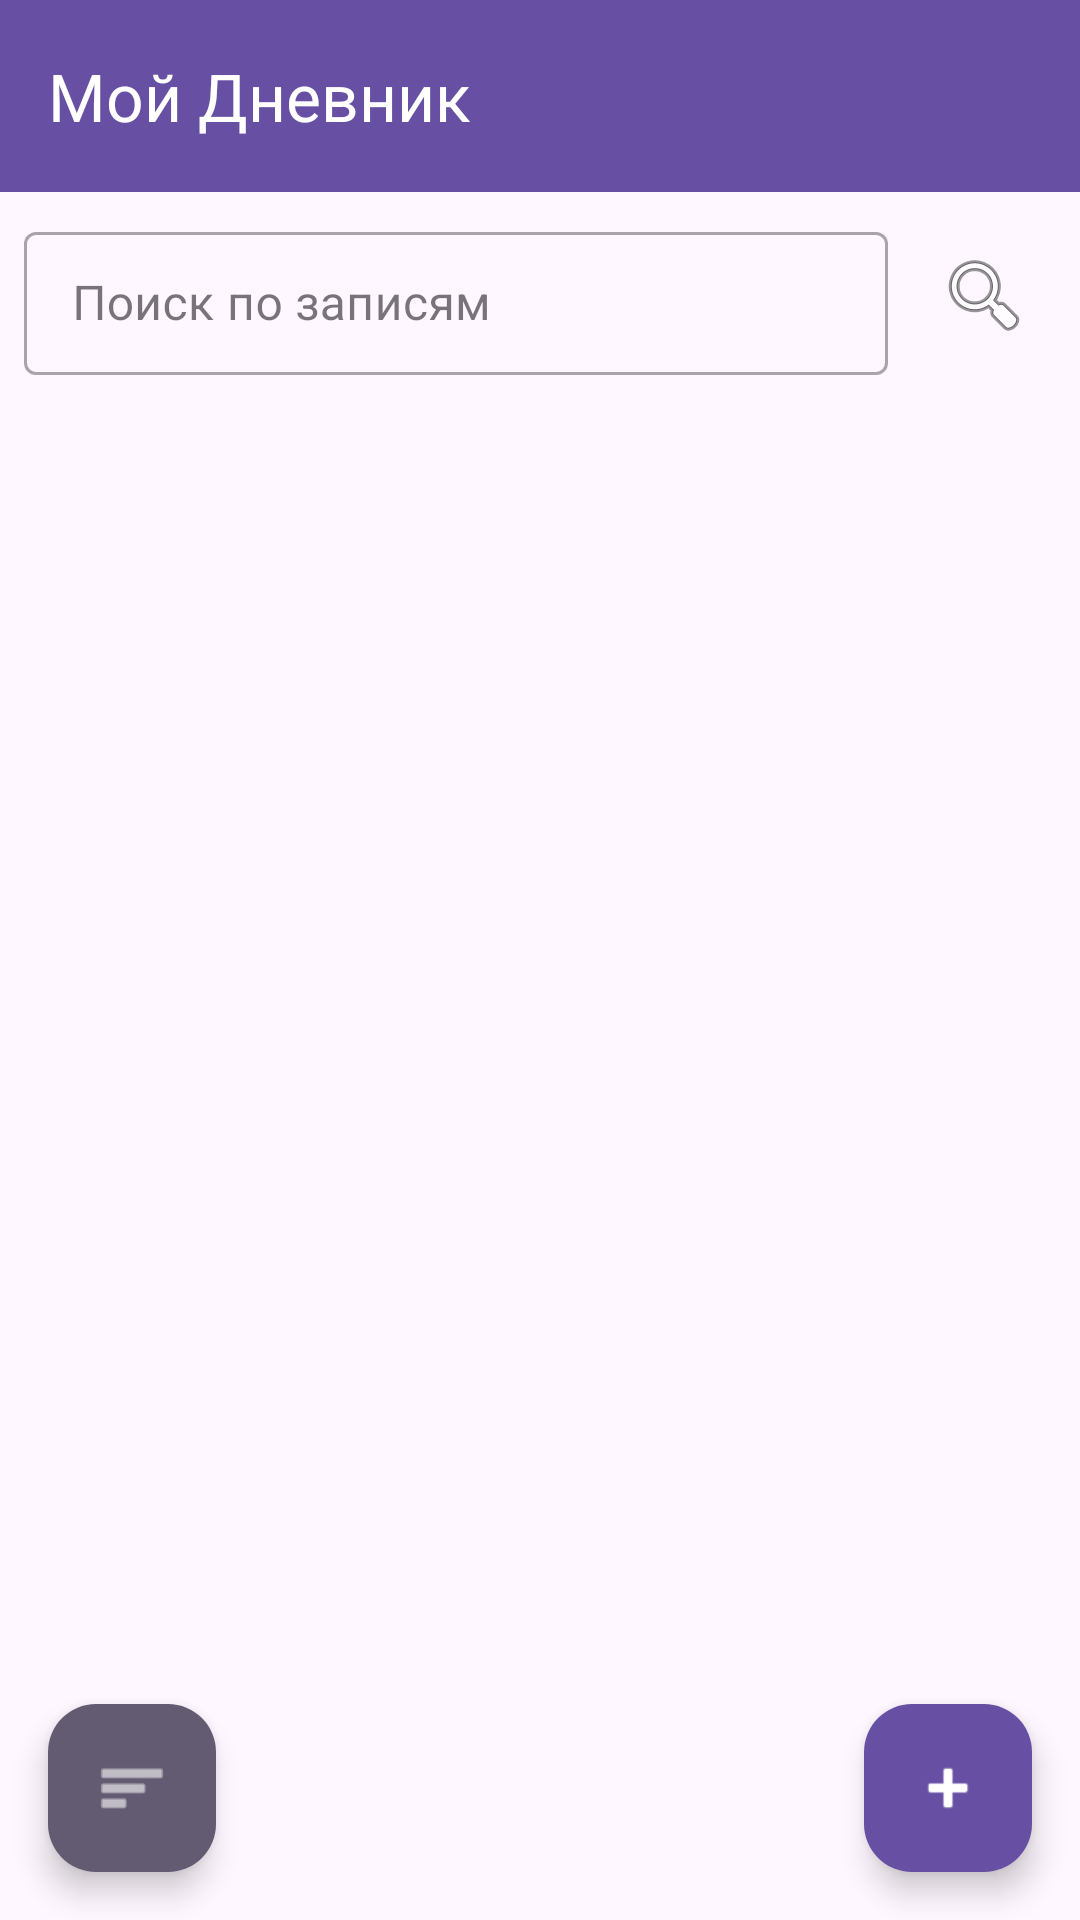

Screen size 1080w x 1920h. Icon name, then its box in pixels as [x1,y1,x2,y2]:
add: [864,1704,1032,1872]
Изменить сортировку: [48,1704,216,1872]
